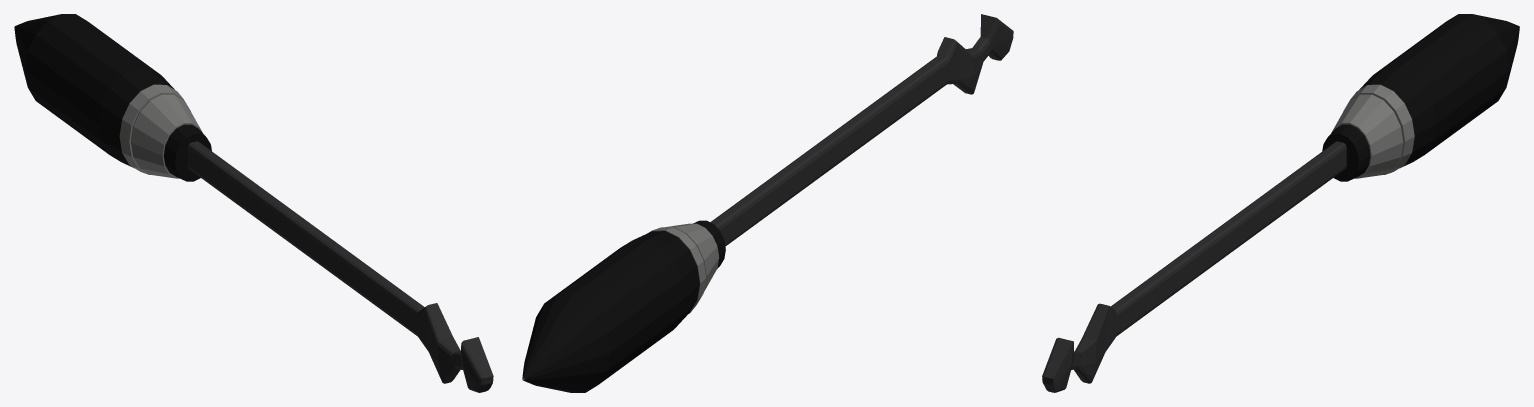
Rendered from brossdur7.obj.
3 views of the same model, side by side, from view 1: azimuth 30°, elevation 25°; view 2: azimuth 150°, elevation 25°; view 3: azimuth 330°, elevation 25° (orthographic). The views are drawn at different scales.
Parts seen in each view (by area): view 1: Body; view 2: Body; view 3: Body.
Boxes of the visible parts, box(x1,y1,x2,y2) form: Body: box(14, 14, 493, 392); Body: box(522, 14, 1013, 392); Body: box(1042, 14, 1519, 392).
Bounding box in the file's own units: 0.4293 × 0.5255 × 4.75.
